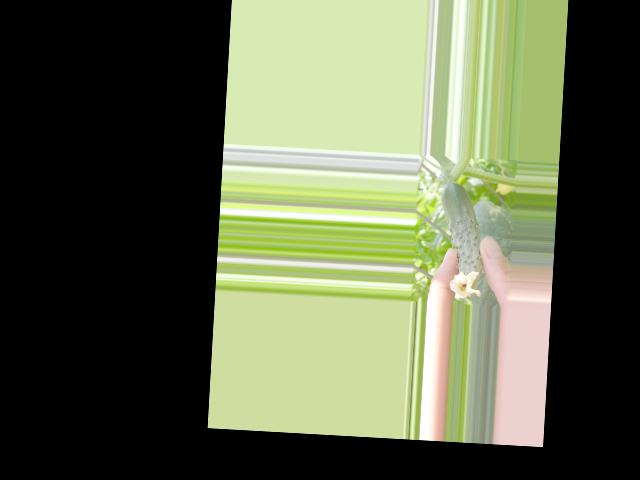cucumber: (436, 181, 487, 299)
